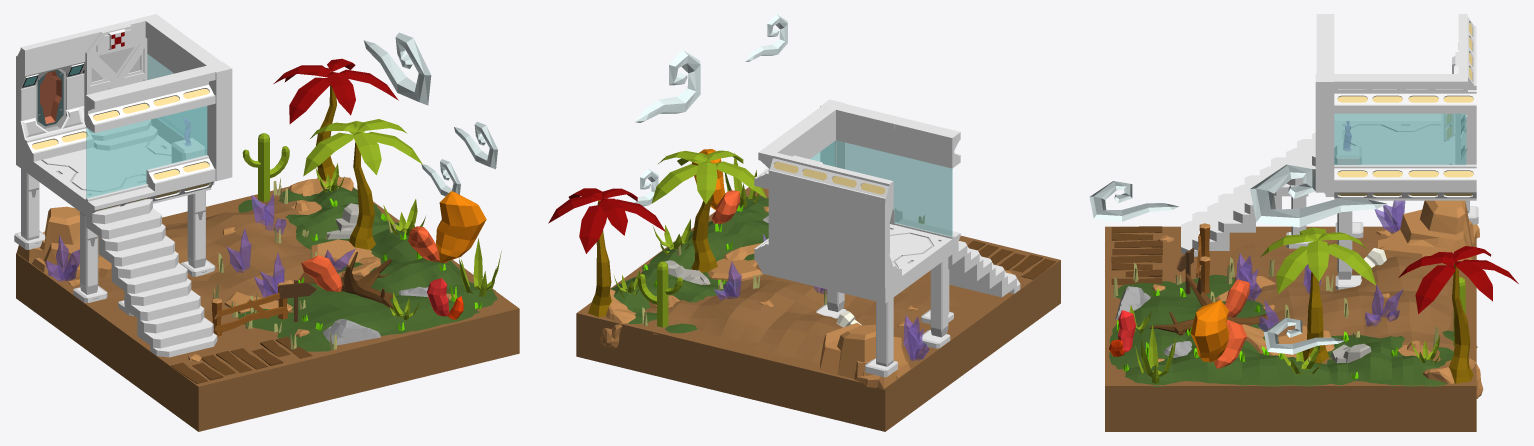
The model's file is Free.fbx.
3 renders of one model, left to right at view 1: azimuth 30°, elevation 25°; view 2: azimuth 150°, elevation 25°; view 3: azimuth 270°, elevation 25°, orthographic. The views are drawn at different scales.
Visible parts, largest first — view 1: Cube (×2), Terrain_Plane_Dirt_Uneven_01, Cube (1), Terrain_Plane_Dirt_Uneven_01 (1), SciFi_Modular_Tile_Wall_Escape_Pod_White_01, SciFi_Modular_Tile_Door_Small_White_01, Terrain_Plane_Dirt_Uneven_01 (2), Terrain_Plane_Dirt_Uneven_01 (3), Vegetation_Modular_Tree_Foliage_Tropical_Palm_02 (5), Vegetation_Modular_Tree_Foliage_Tropical_Palm_02, Cube (2), Vegetation_Modular_Tree_Foliage_Clump_Large_04 (+47 smaller); view 2: Cube, Terrain_Plane_Dirt_Uneven_01, Cube (1), SciFi_Modular_Tile_Wall_Escape_Pod_White_01, SciFi_Modular_Tile_Wall_Escape_Pod_White_01 (1), Terrain_Plane_Dirt_Uneven_01 (2), Vegetation_Modular_Tree_Foliage_Tropical_Palm_02 (5), Rock_Large_15, Vegetation_Modular_Tree_Foliage_Tropical_Palm_02, Terrain_Plane_Dirt_Uneven_01 (3), SciFi_Modular_Tile_White_01 (1), Cloud_Wisp_Half_02 (1) (+29 smaller); view 3: Cube (×2), Terrain_Plane_Dirt_Uneven_01, Terrain_Plane_Dirt_Uneven_01 (2), Terrain_Plane_Dirt_Uneven_01 (1), Terrain_Plane_Dirt_Uneven_01 (3), Rock_Large_15, Cloud_Wisp_Half_02 (1), Vegetation_Modular_Tree_Foliage_Tropical_Palm_02, Vegetation_Modular_Tree_Foliage_Tropical_Palm_02 (5), Prop_Plank_Bridge_01, Cube (2), SciFi_Modular_Tile_White_01 (1) (+41 smaller).
Part boxes in pixels (bbox=[...]): Cube (×2): bbox=[16, 54, 519, 431]; Terrain_Plane_Dirt_Uneven_01: bbox=[98, 197, 342, 322]; Cube (1): bbox=[86, 106, 207, 198]; Terrain_Plane_Dirt_Uneven_01 (1): bbox=[238, 270, 479, 351]; SciFi_Modular_Tile_Wall_Escape_Pod_White_01: bbox=[16, 51, 85, 155]; SciFi_Modular_Tile_Door_Small_White_01: bbox=[84, 25, 157, 150]; Terrain_Plane_Dirt_Uneven_01 (2): bbox=[303, 229, 497, 308]; Terrain_Plane_Dirt_Uneven_01 (3): bbox=[238, 185, 399, 245]; Vegetation_Modular_Tree_Foliage_Tropical_Palm_02 (5): bbox=[273, 58, 398, 123]; Vegetation_Modular_Tree_Foliage_Tropical_Palm_02: bbox=[303, 119, 422, 176]; Cube (2): bbox=[207, 62, 232, 181]; Vegetation_Modular_Tree_Foliage_Clump_Large_04: bbox=[436, 191, 486, 262]; Cube: bbox=[576, 187, 1060, 431]; Terrain_Plane_Dirt_Uneven_01: bbox=[642, 264, 960, 363]; Cube (1): bbox=[836, 140, 952, 236]; SciFi_Modular_Tile_Wall_Escape_Pod_White_01: bbox=[827, 188, 893, 288]; SciFi_Modular_Tile_Wall_Escape_Pod_White_01 (1): bbox=[768, 174, 826, 273]; Terrain_Plane_Dirt_Uneven_01 (2): bbox=[649, 196, 768, 288]; Vegetation_Modular_Tree_Foliage_Tropical_Palm_02 (5): bbox=[548, 188, 665, 253]; Rock_Large_15: bbox=[820, 323, 908, 378]; Vegetation_Modular_Tree_Foliage_Tropical_Palm_02: bbox=[651, 150, 766, 204]; Terrain_Plane_Dirt_Uneven_01 (3): bbox=[611, 264, 727, 333]; SciFi_Modular_Tile_White_01 (1): bbox=[889, 225, 952, 278]; Cloud_Wisp_Half_02 (1): bbox=[635, 50, 700, 122]; Cube (×2): bbox=[1105, 113, 1476, 431]; Terrain_Plane_Dirt_Uneven_01: bbox=[1225, 237, 1477, 364]; Terrain_Plane_Dirt_Uneven_01 (2): bbox=[1125, 335, 1343, 387]; Terrain_Plane_Dirt_Uneven_01 (1): bbox=[1109, 274, 1269, 369]; Terrain_Plane_Dirt_Uneven_01 (3): bbox=[1326, 330, 1469, 386]; Rock_Large_15: bbox=[1378, 200, 1472, 263]; Cloud_Wisp_Half_02 (1): bbox=[1250, 164, 1387, 227]; Vegetation_Modular_Tree_Foliage_Tropical_Palm_02: bbox=[1260, 227, 1376, 294]; Vegetation_Modular_Tree_Foliage_Tropical_Palm_02 (5): bbox=[1398, 246, 1518, 313]; Prop_Plank_Bridge_01: bbox=[1111, 226, 1162, 284]; Cube (2): bbox=[1315, 74, 1334, 192]; SciFi_Modular_Tile_White_01 (1): bbox=[1335, 121, 1405, 150].
Size of the model in its own units: 11.93 by 8.18 by 12.11.
